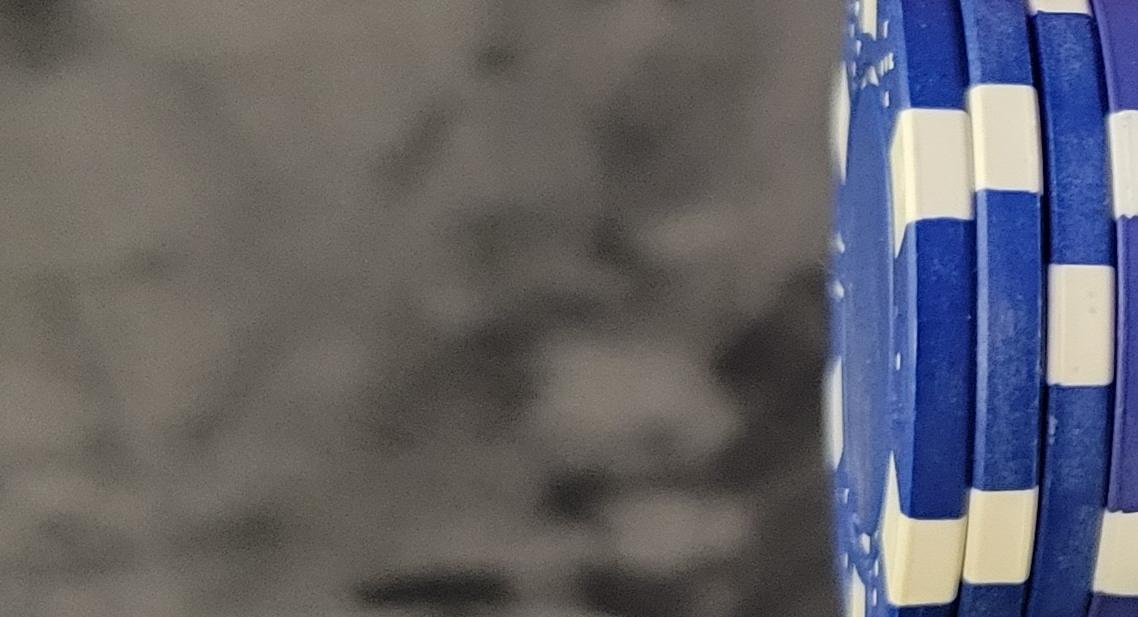Chip: (1, 410, 771, 617)
